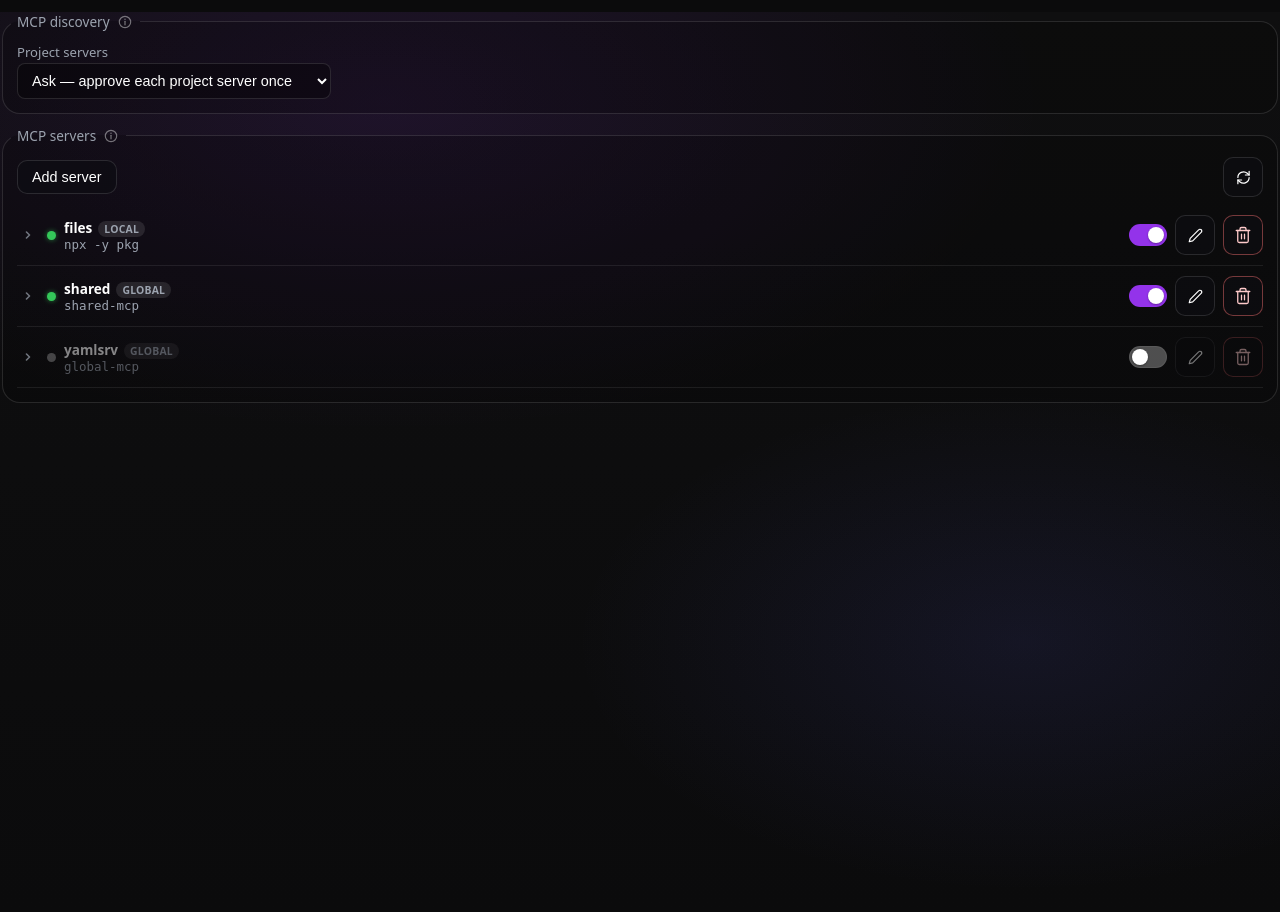
Test case: a refresh that fails keeps the rows and says why
Expected: the list with test id "mcp-list" is shown, 17,205 -> 1263,388
Click the button with test id "mcp-refresh". click: point(1243, 177)
box: 1223,157 -> 1263,197
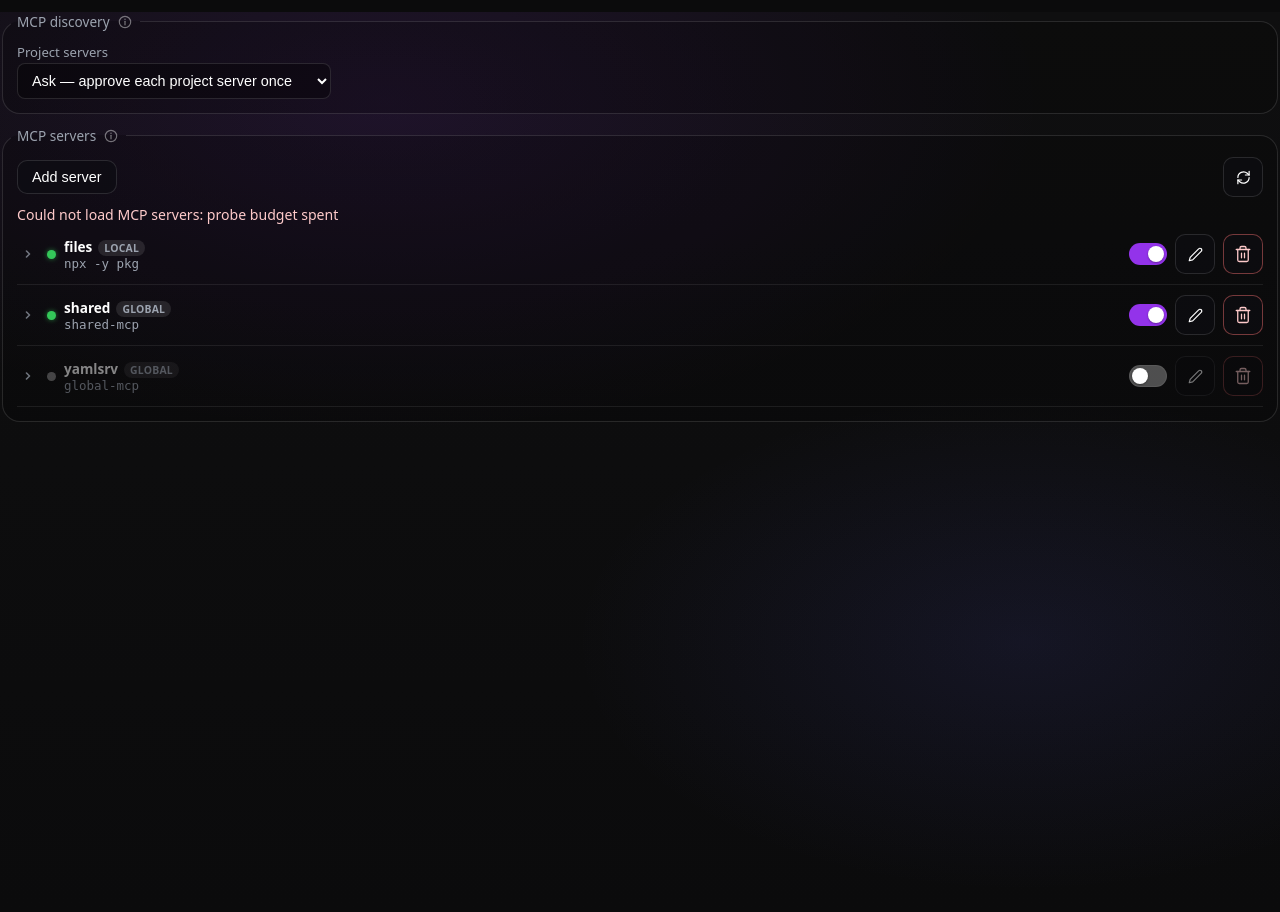
Expected: the switch with test id "mcp-toggle-files" is shown, 1129,243 -> 1167,265
Expected: the text with test id "mcp-load-error" shows "probe budget spent", 17,205 -> 338,224
